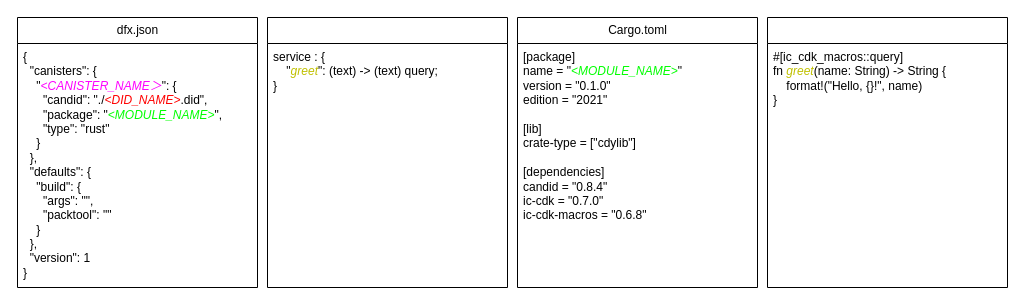
Image size: 1025x308. Some labels were removed from this diagram. Here are the shapes that lost their labels. From the top down, the box of each, then its label:
(266, 16, 508, 288): <DID_NAME> .did
(766, 16, 1008, 288): lib.rs
